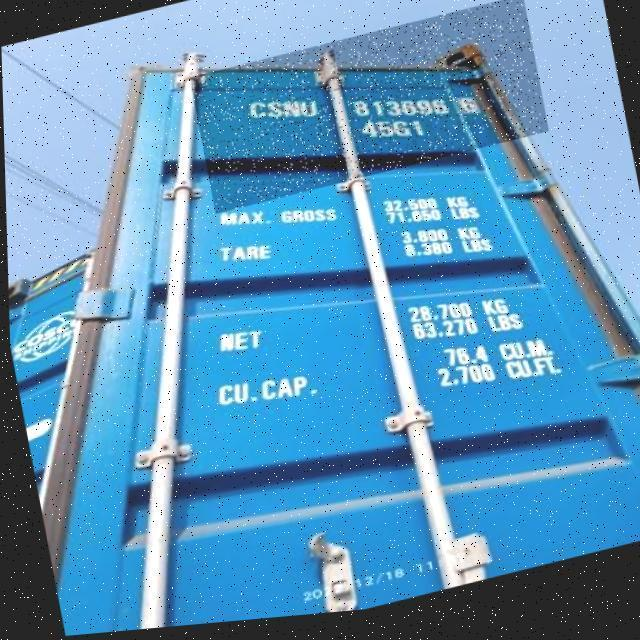container_number_h: (188, 3, 549, 219)
